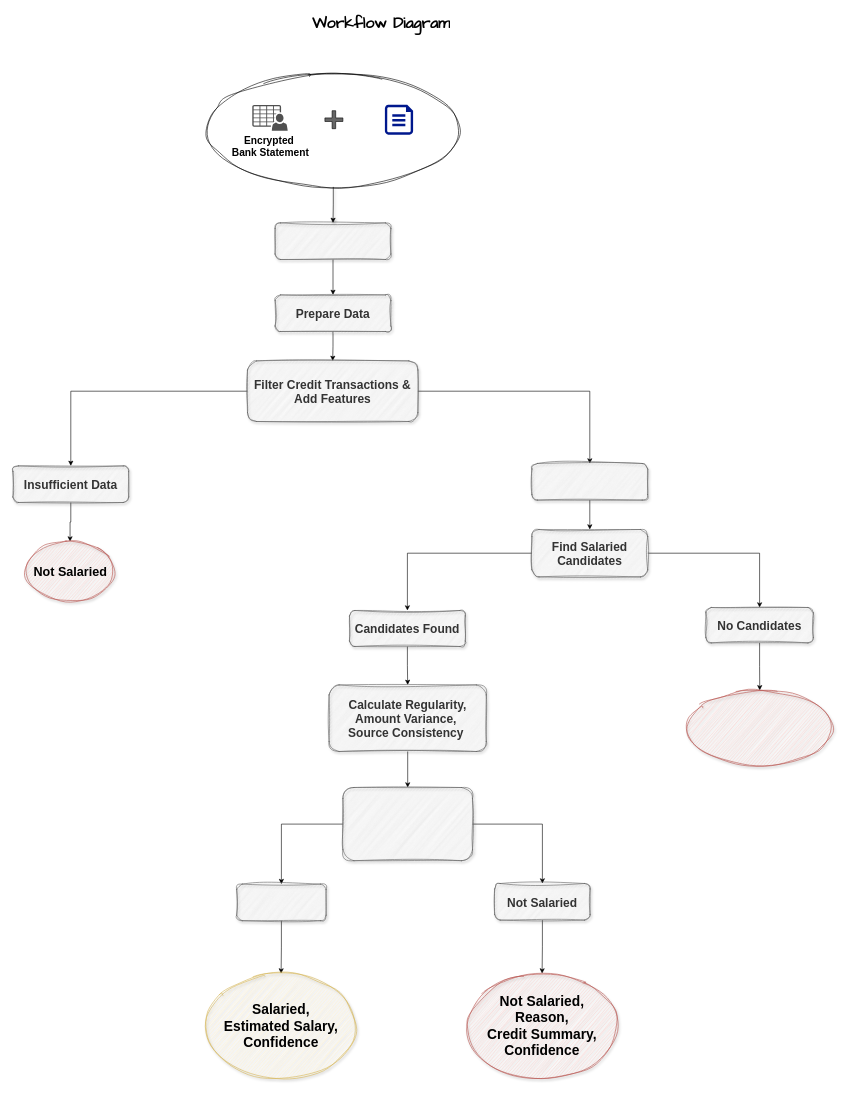
The diagram is 847 pixels wide and 1094 high, and some of its shapes have lost their labels. Each missing label, with the centre of its shape:
Apply Decision Logic & Calculate Confidence: the point at 408,824
Assumptions: the point at 399,119
Extract Statement: the point at 333,242
Is Salaried: the point at 282,903
Not Salaried (No high-value credits): the point at 760,728
Sufficient Data: the point at 590,482
